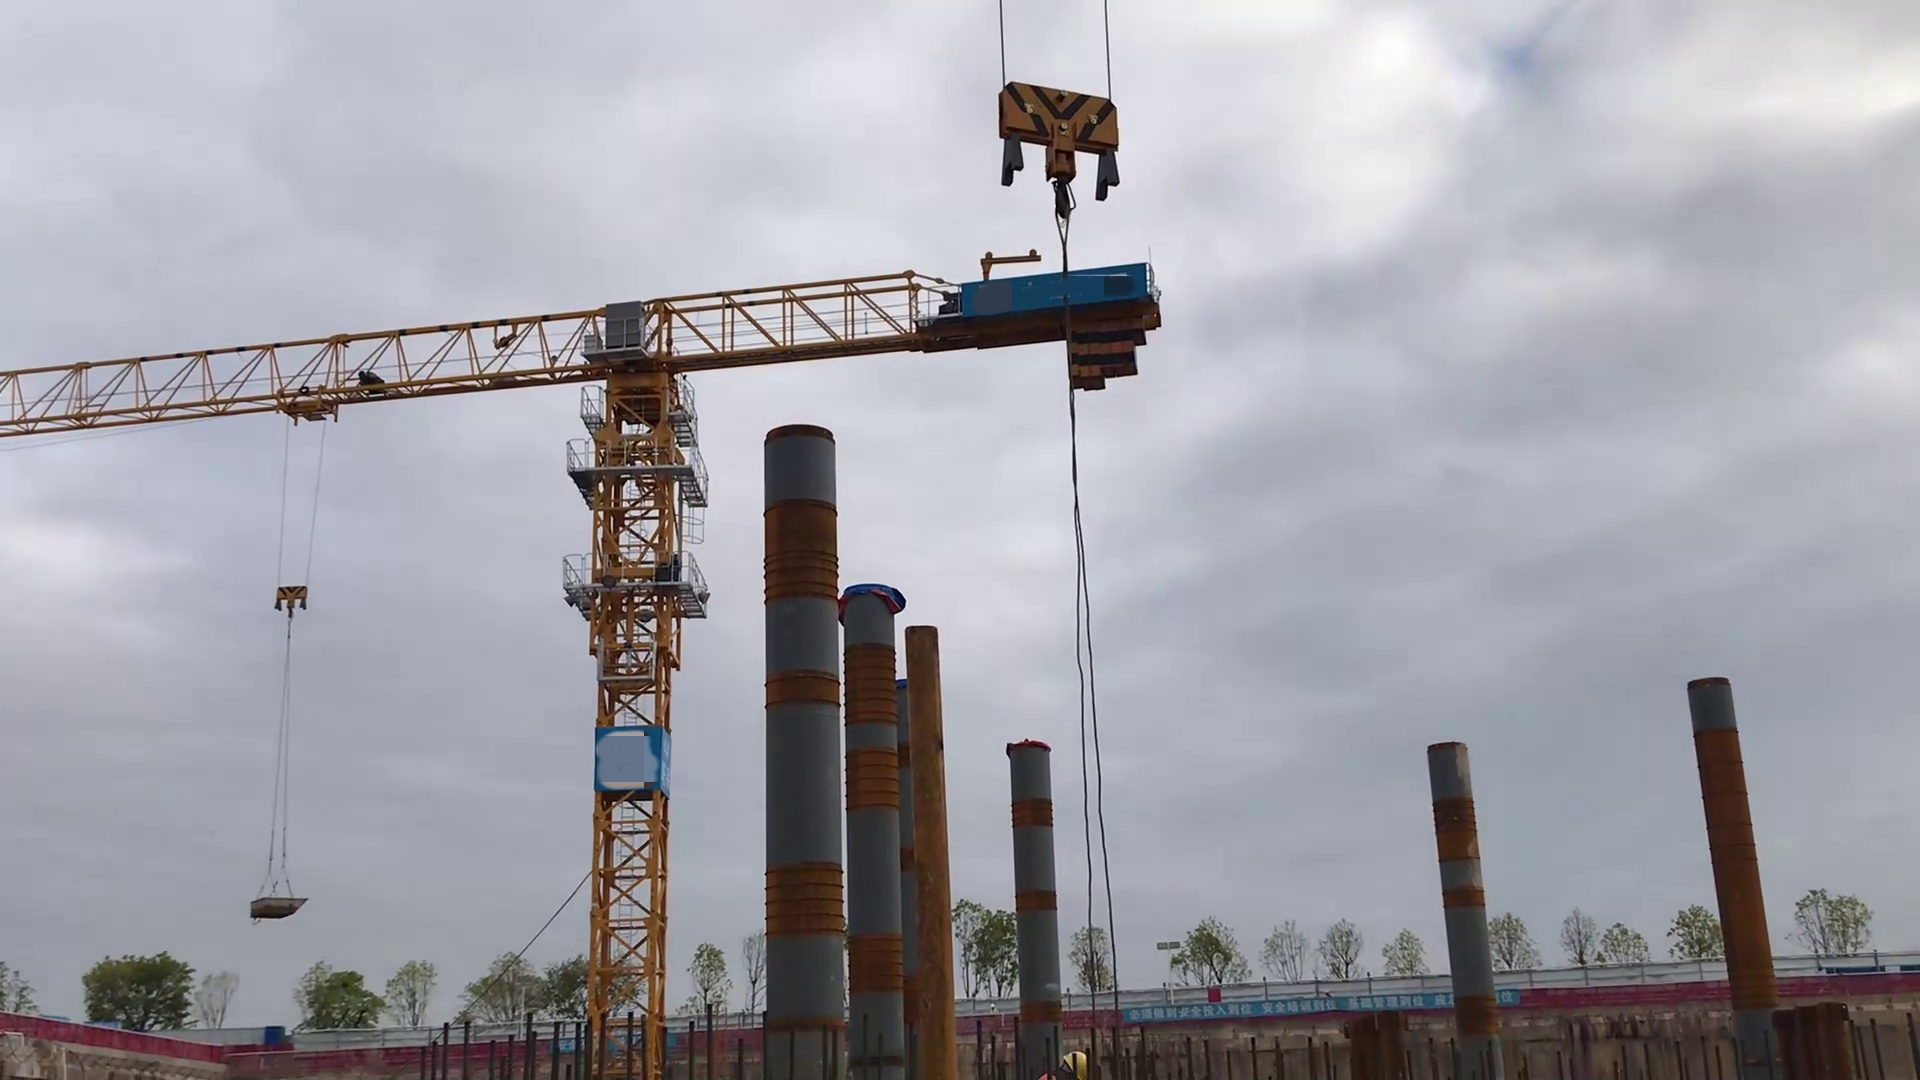hook: (988, 76, 1129, 228), (272, 582, 313, 621)
slogan: (1124, 989, 1519, 1021)
